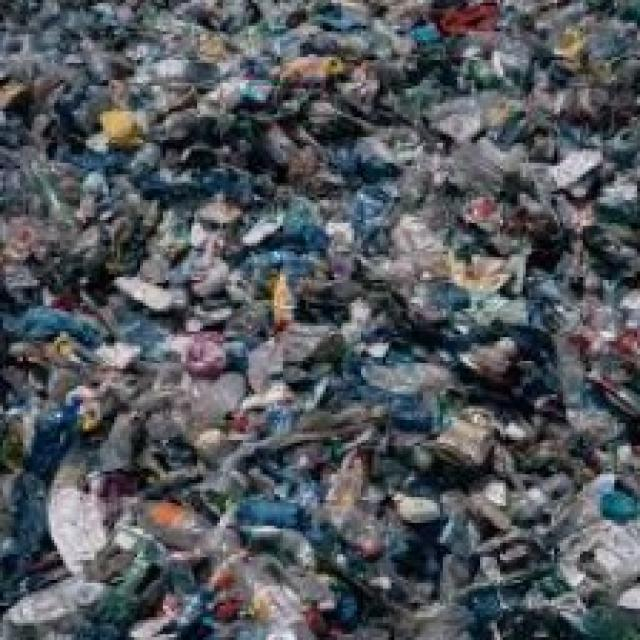heap: (2, 38, 640, 640)
plastic_bag: (248, 195, 332, 290), (345, 165, 396, 277)
plastic_bottle: (124, 488, 253, 573), (248, 570, 320, 640)
